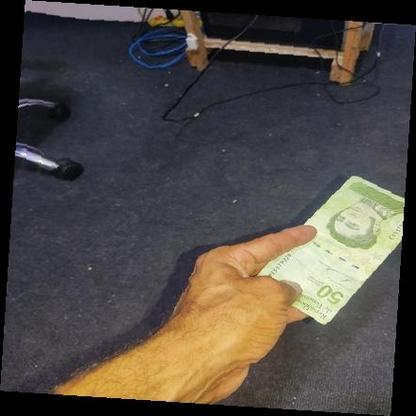fifty-front-vef: (254, 175, 405, 325)
